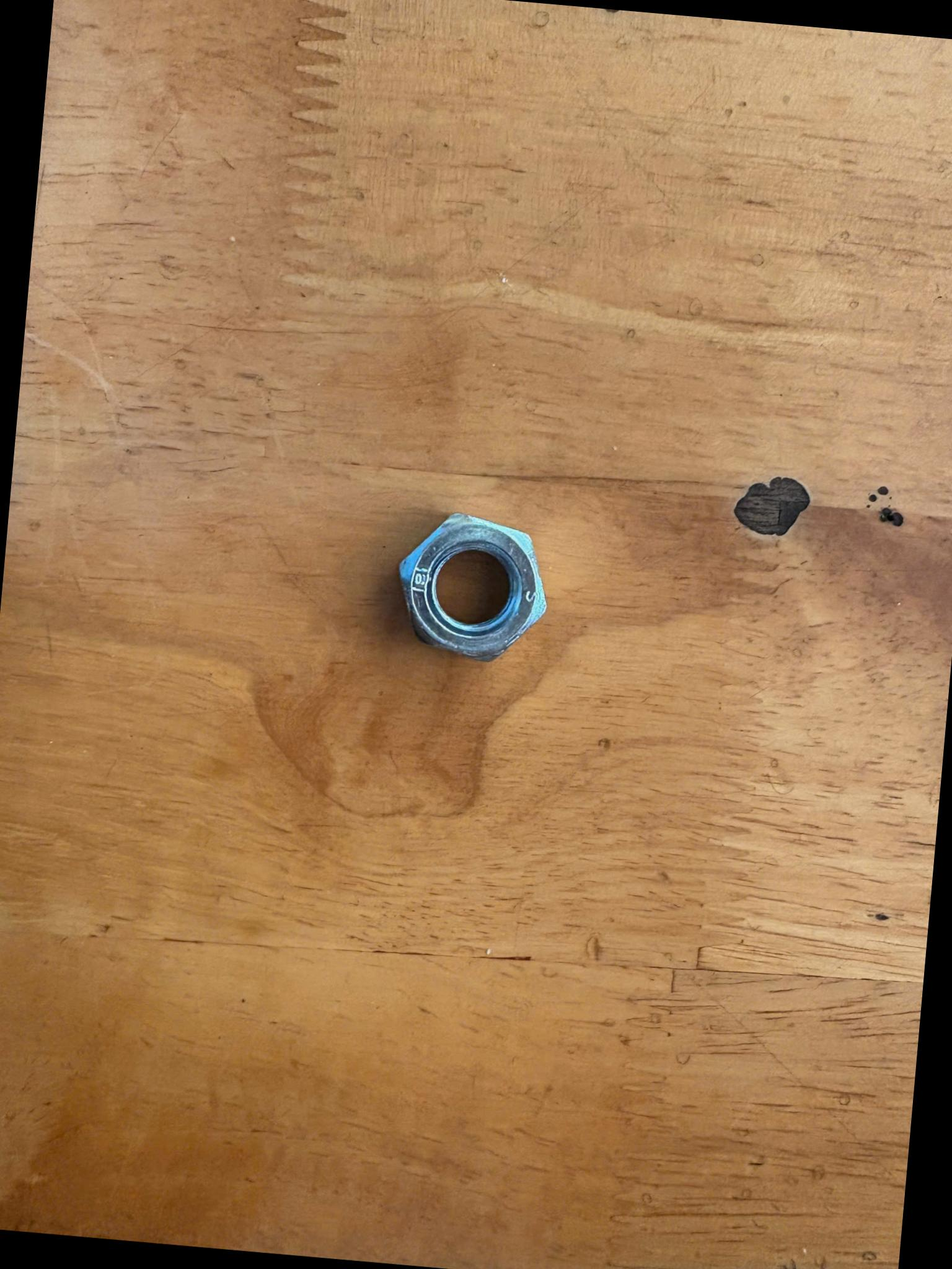nut: (380, 501, 566, 697)
